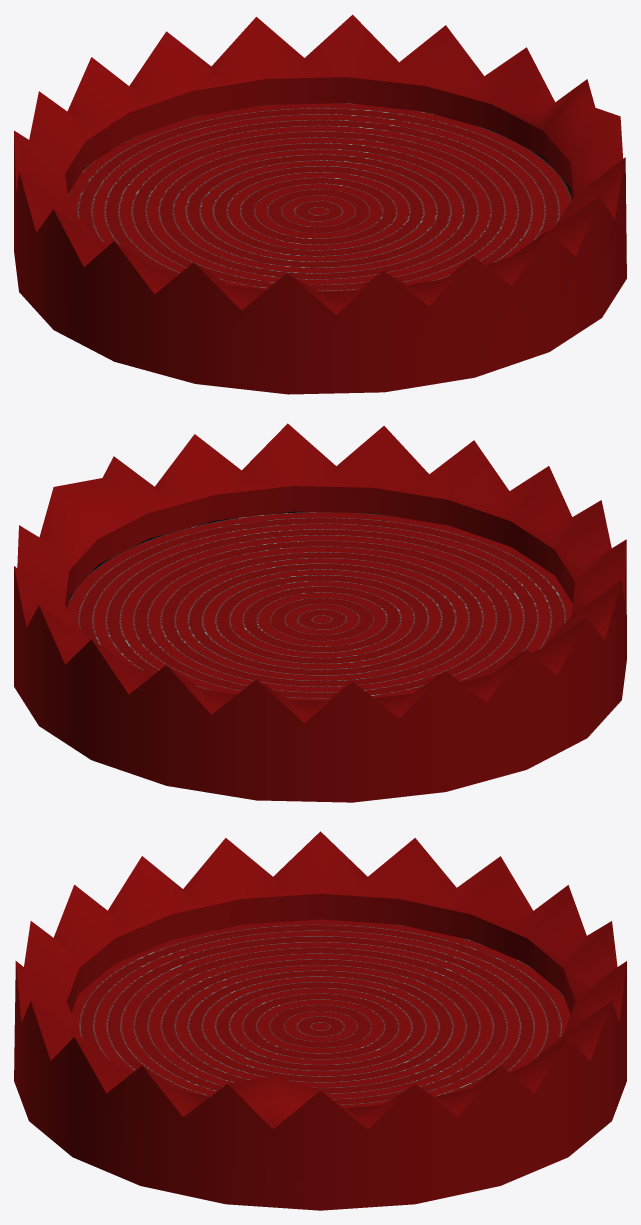
The model's file is RedPiece.FBX.
3 views of the same model, one above another, from view 1: azimuth 30°, elevation 25°; view 2: azimuth 150°, elevation 25°; view 3: azimuth 270°, elevation 25° (orthographic).
Visible parts, largest first — view 1: RedPiece; view 2: RedPiece; view 3: RedPiece.
Boxes of the visible parts, box(x1,y1,x2,y2) form: RedPiece: box(14, 14, 626, 394); RedPiece: box(14, 423, 626, 802); RedPiece: box(14, 831, 626, 1210).
Bounding box in the file's own units: 11.81 × 2.56 × 11.81.
